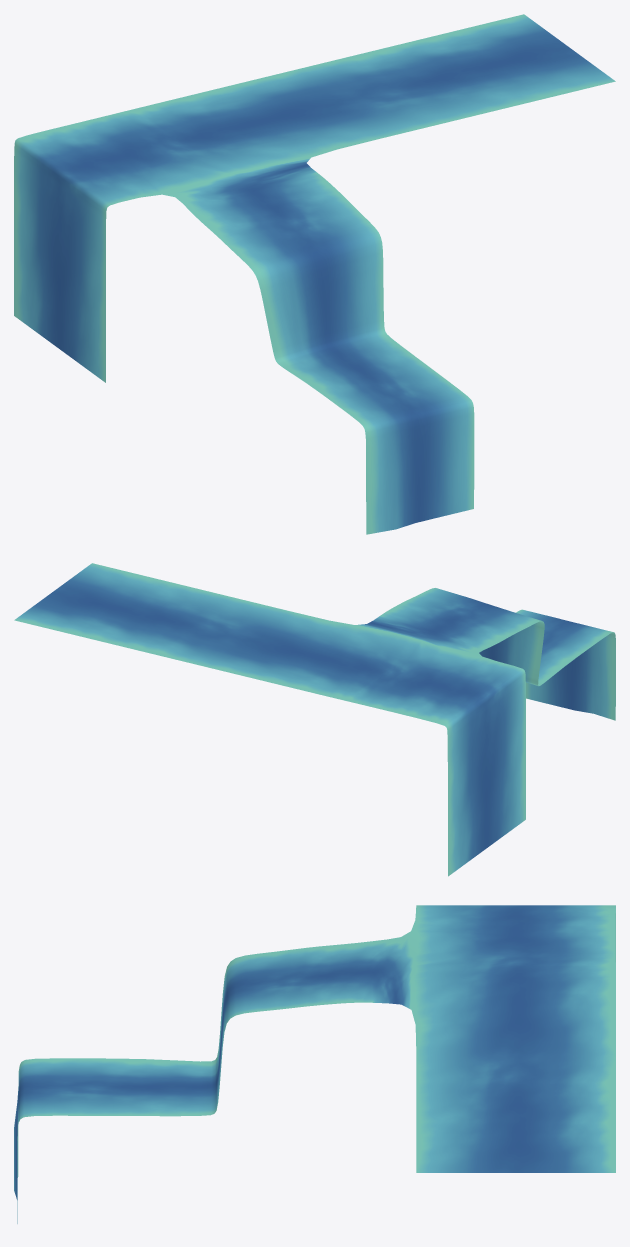
The model's file is split_waterfall_singled_out.gltf.
3 renders of one model, top to bottom at view 1: azimuth 30°, elevation 25°; view 2: azimuth 150°, elevation 25°; view 3: azimuth 270°, elevation 25°, orthographic. The views are drawn at different scales.
Parts seen in each view (by area): view 1: water_river_split_fixed; view 2: water_river_split_fixed; view 3: water_river_split_fixed.
Boxes of the visible parts, x1,y1,x2,y2 form: water_river_split_fixed: [14, 14, 615, 534]; water_river_split_fixed: [14, 563, 615, 876]; water_river_split_fixed: [14, 905, 615, 1223].
Bounding box in the file's own units: 79.93 × 32.37 × 75.16.
1 material, 1 textured.
